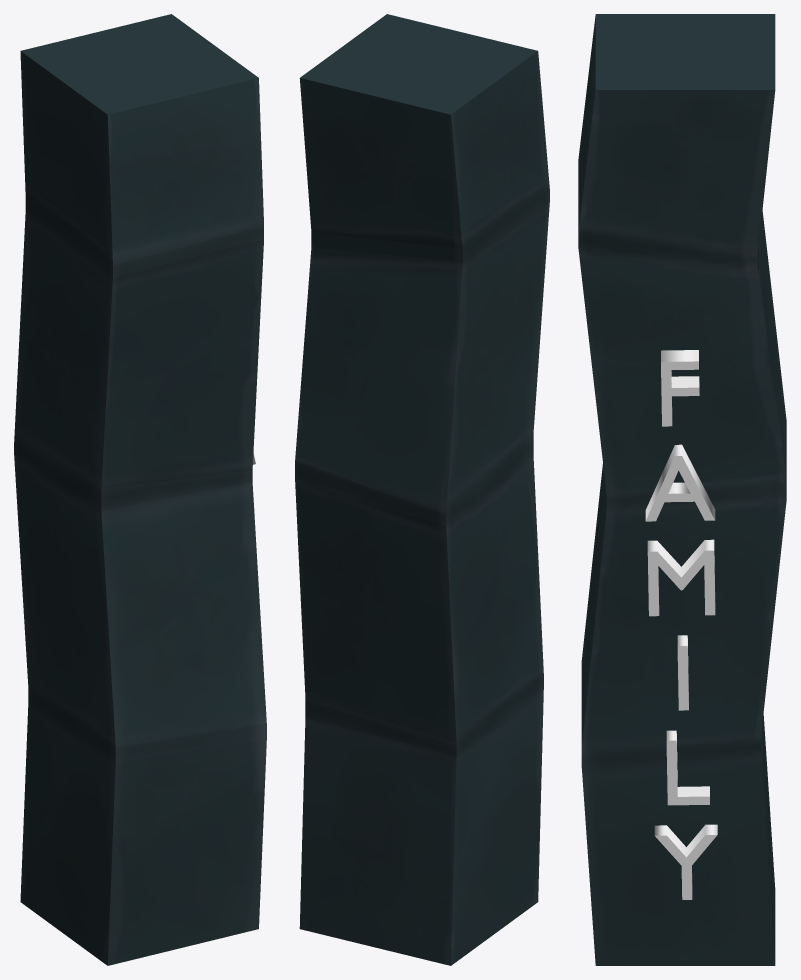
File: NewPoleShape.fbx
The picture shows the model from 3 angles, left to right: view 1: azimuth 30°, elevation 25°; view 2: azimuth 150°, elevation 25°; view 3: azimuth 270°, elevation 25°; orthographic projection. The views are drawn at different scales.
Visible parts, largest first — view 1: Cube; view 2: Cube; view 3: Cube, Text.
Boxes of the visible parts, left/top/right/bottom form: Cube: left=14, top=14, right=266, bottom=965; Cube: left=295, top=14, right=549, bottom=965; Cube: left=578, top=14, right=786, bottom=965; Text: left=645, top=350, right=717, bottom=899.
Size of the model in its own units: 90.09 by 417 by 89.94.
2 materials, 1 textured.
